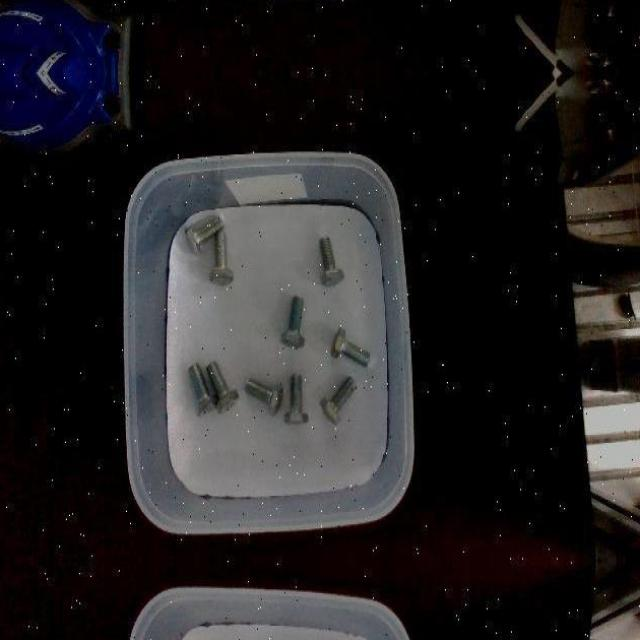screw: (205, 359, 240, 413), (320, 375, 357, 425), (185, 212, 225, 255), (188, 362, 217, 416), (330, 327, 370, 366), (244, 377, 283, 415), (281, 294, 306, 348), (209, 231, 233, 286), (319, 236, 344, 287), (284, 373, 309, 423)
